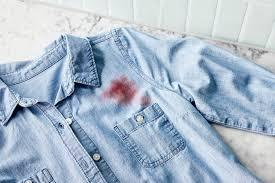oil: (101, 74, 152, 108)
